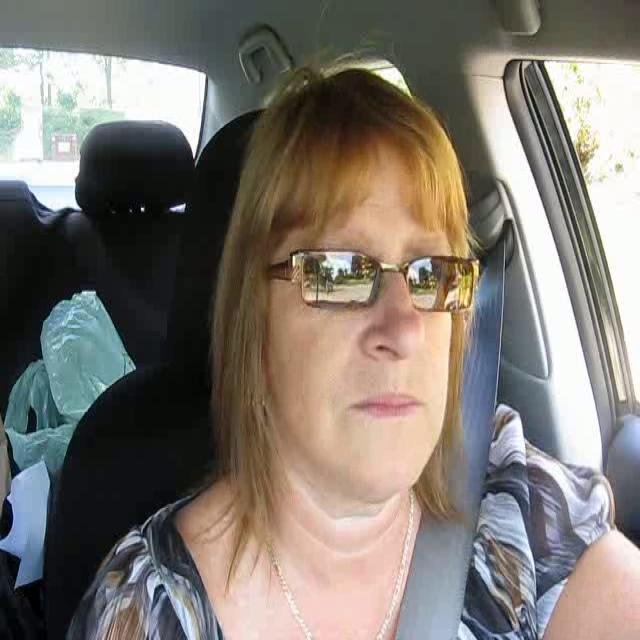close: (338, 384, 431, 423)
